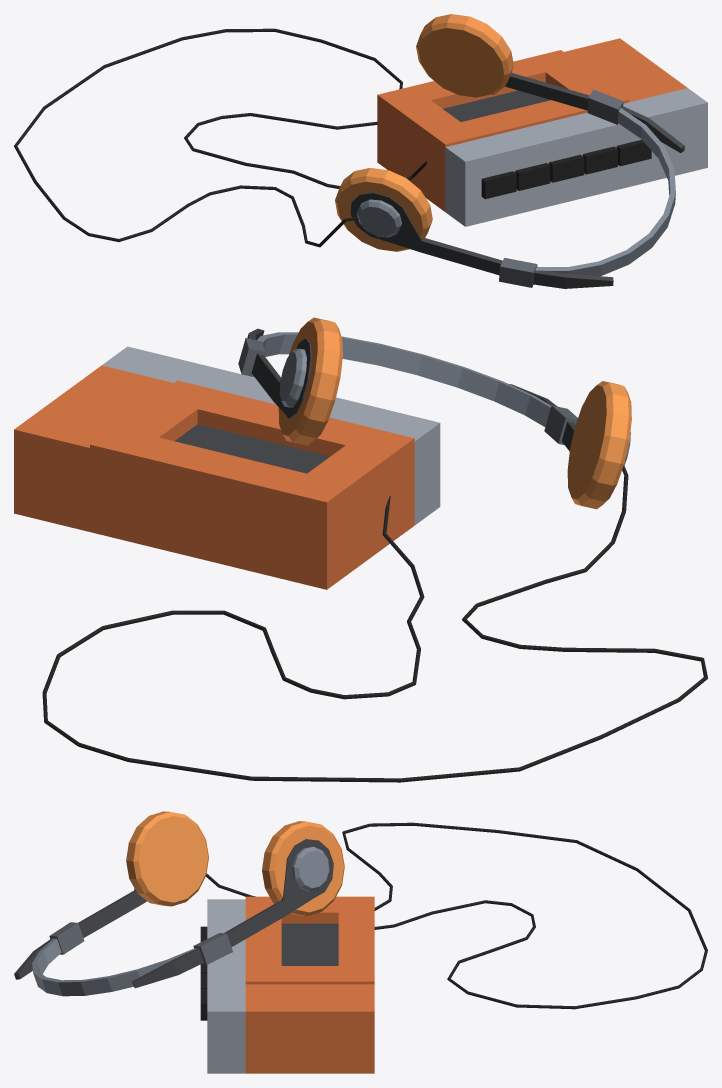
File: Casette_player_with_headphones.fbx
3 renders of one model, top to bottom at view 1: azimuth 30°, elevation 25°; view 2: azimuth 150°, elevation 25°; view 3: azimuth 270°, elevation 25°, orthographic. The views are drawn at different scales.
Visible parts, largest first — view 1: Plane.013, Circle.026, Vert.003; view 2: Plane.013, Circle.026, Vert.003; view 3: Plane.013, Circle.026, Vert.003.
Boxes of the visible parts, left/top/right/bottom form: Plane.013: left=377, top=38, right=707, bottom=226; Circle.026: left=335, top=14, right=684, bottom=288; Vert.003: left=14, top=28, right=426, bottom=247; Plane.013: left=14, top=346, right=440, bottom=589; Circle.026: left=238, top=317, right=631, bottom=509; Vert.003: left=42, top=465, right=707, bottom=782; Plane.013: left=200, top=896, right=374, bottom=1073; Circle.026: left=14, top=811, right=344, bottom=996; Vert.003: left=206, top=822, right=707, bottom=1009.
Bounding box in the file's own units: 1.13 × 1.33 × 0.3353.
